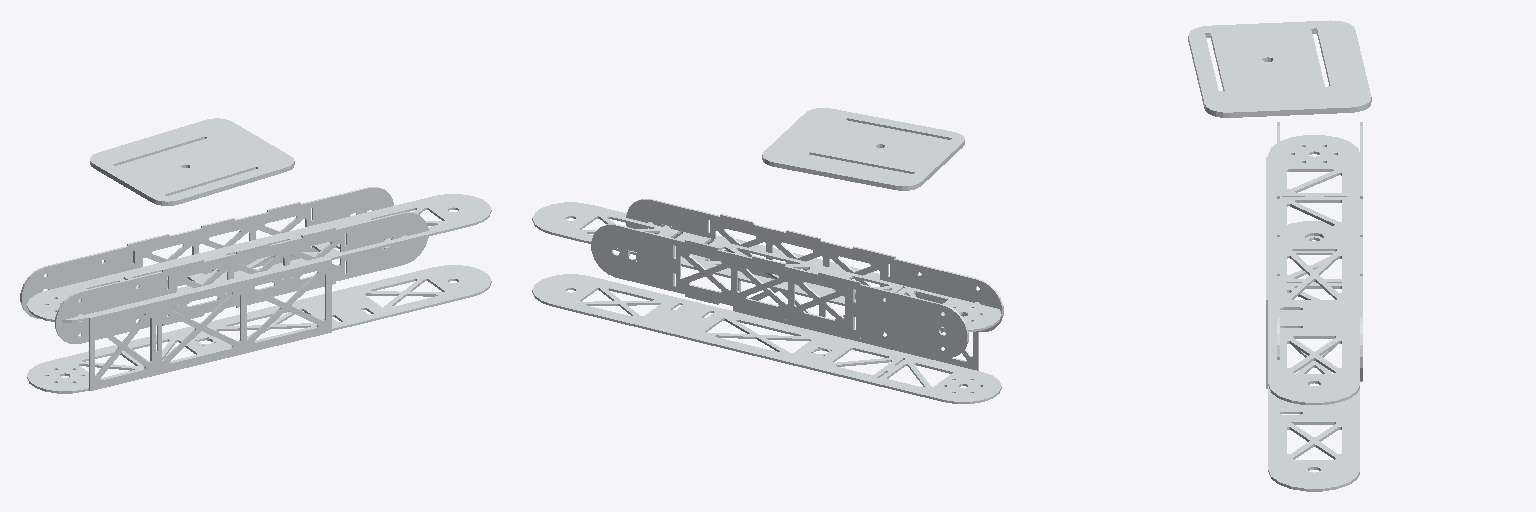
URDF robot description (rover_arm_controller):
<robot
  name="rover_arm_controller">
  <link
    name="base_link">
    <inertial>
      <origin
        xyz="0.167333020630679 -0.0932981497004772 0.203572921753306"
        rpy="0 0 0" />
      <mass
        value="1.09987706637098" />
      <inertia
        ixx="0.00186690627375383"
        ixy="-2.38762374457778E-05"
        ixz="0.000219426452282904"
        iyy="0.000702689787023486"
        iyz="7.25476216335866E-05"
        izz="0.00158776522165118" />
    </inertial>
    <visual>
      <origin
        xyz="0 0 0"
        rpy="0 0 0" />
      <geometry>
        <mesh
          filename="package://rover_arm_controller/meshes/base_link.STL" />
      </geometry>
      <material
        name="">
        <color
          rgba="0.898039215686275 0.917647058823529 0.929411764705882 1" />
      </material>
    </visual>
    <collision>
      <origin
        xyz="0 0 0"
        rpy="0 0 0" />
      <geometry>
        <mesh
          filename="package://rover_arm_controller/meshes/base_link.STL" />
      </geometry>
    </collision>
  </link>
  <link
    name="shoulder">
    <inertial>
      <origin
        xyz="0.0340198543920042 -0.114331741845435 0.533436578952917"
        rpy="0 0 0" />
      <mass
        value="1.05564621631797" />
      <inertia
        ixx="0.00451355211596393"
        ixy="0.000226886691793064"
        ixz="-3.47073159403849E-05"
        iyy="0.0020800955861839"
        iyz="3.7679008173862E-05"
        izz="0.00247634265148738" />
    </inertial>
    <visual>
      <origin
        xyz="0 0 0"
        rpy="0 0 0" />
      <geometry>
        <mesh
          filename="package://rover_arm_controller/meshes/shoulder.STL" />
      </geometry>
      <material
        name="">
        <color
          rgba="0.898039215686275 0.917647058823529 0.929411764705882 1" />
      </material>
    </visual>
    <collision>
      <origin
        xyz="0 0 0"
        rpy="0 0 0" />
      <geometry>
        <mesh
          filename="package://rover_arm_controller/meshes/shoulder.STL" />
      </geometry>
    </collision>
  </link>
  <joint
    name="shoulder_joint"
    type="revolute">
    <origin
      xyz="0 0 0"
      rpy="0 0 0" />
    <parent
      link="base_link" />
    <child
      link="shoulder" />
    <axis
      xyz="0 0 -1" />
    <limit
      lower="0"
      upper="4"
      effort="0"
      velocity="0" />
  </joint>
  <link
    name="elbow">
    <inertial>
      <origin
        xyz="-0.318026991497227 -0.149944416333569 0.753194447303895"
        rpy="0 0 0" />
      <mass
        value="0.636895031335" />
      <inertia
        ixx="0.00133892364548078"
        ixy="0.000134705336582021"
        ixz="-8.24805055360625E-21"
        iyy="1.35523244846123E-05"
        iyz="8.19827201769394E-20"
        izz="0.0013524759699654" />
    </inertial>
    <visual>
      <origin
        xyz="0 0 0"
        rpy="0 0 0" />
      <geometry>
        <mesh
          filename="package://rover_arm_controller/meshes/elbow.STL" />
      </geometry>
      <material
        name="">
        <color
          rgba="0.898039215686275 0.917647058823529 0.929411764705882 1" />
      </material>
    </visual>
    <collision>
      <origin
        xyz="0 0 0"
        rpy="0 0 0" />
      <geometry>
        <mesh
          filename="package://rover_arm_controller/meshes/elbow.STL" />
      </geometry>
    </collision>
  </link>
  <joint
    name="elbow_joint"
    type="revolute">
    <origin
      xyz="0 0 0"
      rpy="0 0 0" />
    <parent
      link="shoulder" />
    <child
      link="elbow" />
    <axis
      xyz="0 0 -1" />
    <limit
      lower="0"
      upper="4"
      effort="0"
      velocity="0" />
  </joint>
</robot>

--- What the picture shows (computed from the rendered views, not written in the file) ---
Views: 3 orthographic renders of the robot side by side, from view 1: azimuth 30°, elevation 25°; view 2: azimuth 150°, elevation 25°; view 3: azimuth 270°, elevation 25°.
Robot: rover_arm_controller — 3 links, 2 joints (2 revolute); root link base_link; default pose: all joints at 0.
Links seen in each view (by area): view 1: shoulder, elbow, base_link; view 2: elbow, shoulder, base_link; view 3: shoulder, base_link, elbow.
Boxes of the visible links, x1,y1,x2,y2 form: shoulder: (27,194,491,393); elbow: (20,187,428,343); base_link: (90,118,294,205); elbow: (591,199,1003,357); shoulder: (532,202,1001,403); base_link: (762,108,964,190); shoulder: (1266,135,1359,491); base_link: (1188,20,1371,117); elbow: (1277,122,1362,381).
Bounding box of the posed robot: 0.7001 × 0.2022 × 0.2962 m (x, y, z).
3 mesh visuals loaded from 3 distinct referenced files (3 binary STL).